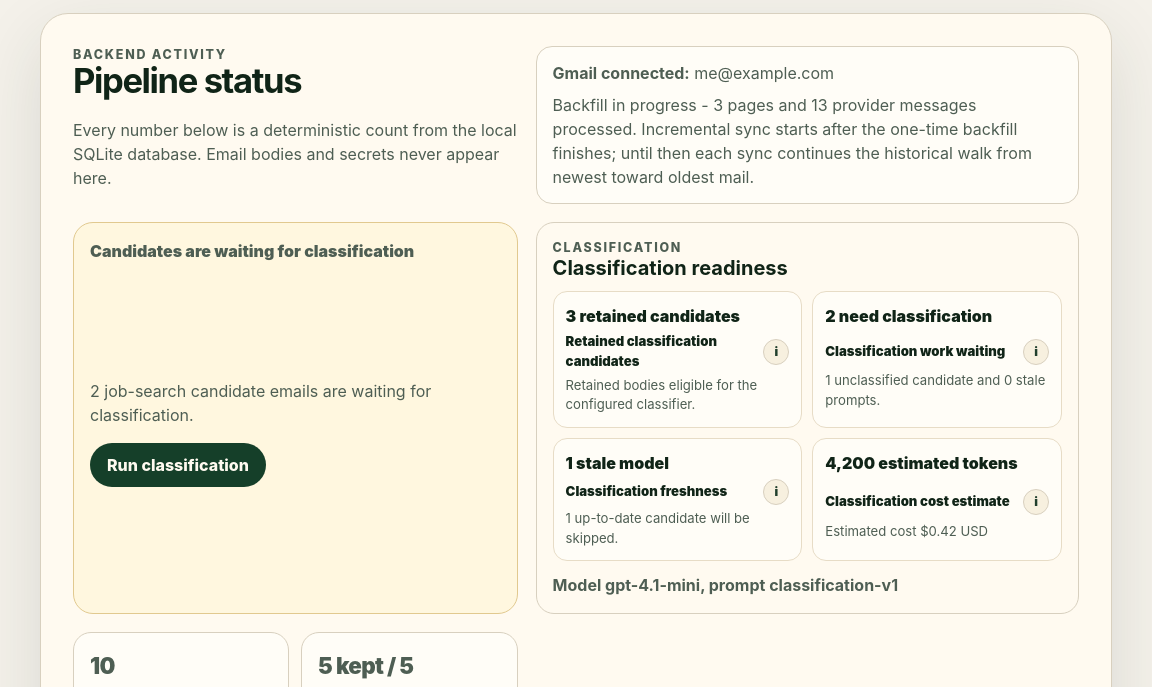
it: App › explains retained classification candidates through an accessible info control
This screenshot has width=1152, height=687.
(page scrolled)
Expected: the text "3 retained candidates" is shown, [566, 306, 740, 326]
Focus the button named "About Retained classification candidates" at (776, 352), box [763, 339, 789, 365]
(page scrolled)
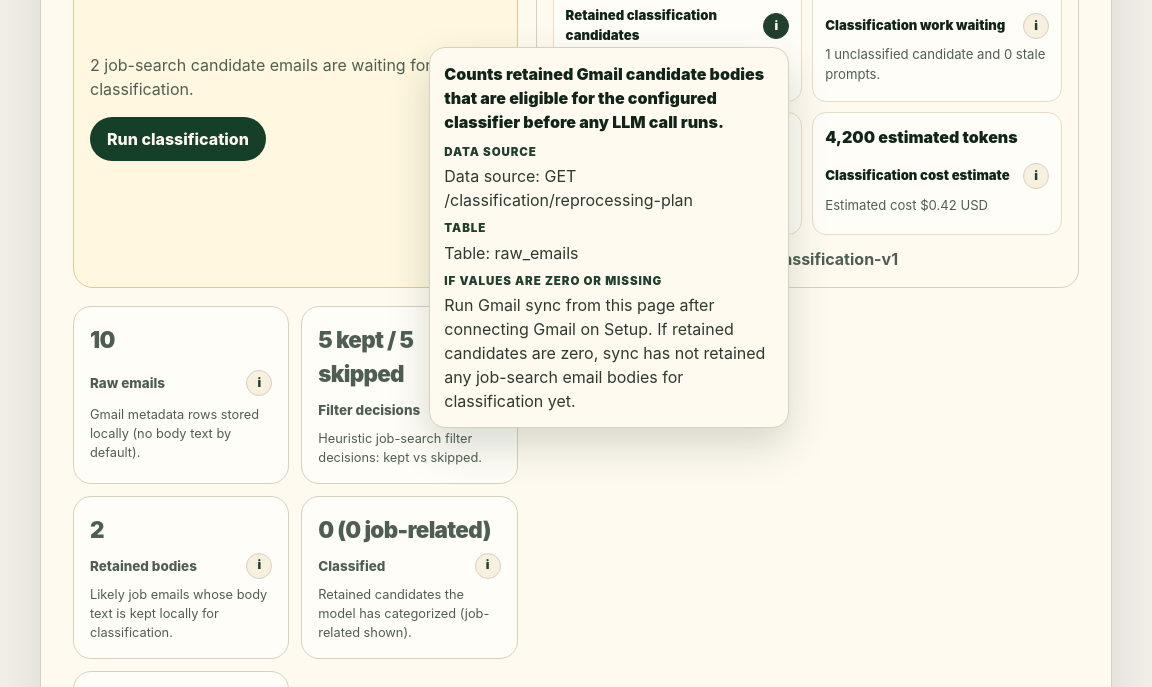
Expected: the button named "About Retained classification candidates" is expanded, [763, 13, 789, 39]
Expected: the text "Data source: GET /classification/reprocessing-plan" is shown, [444, 166, 693, 210]
Expected: the text "Table: raw_emails" is shown, [444, 242, 578, 262]
